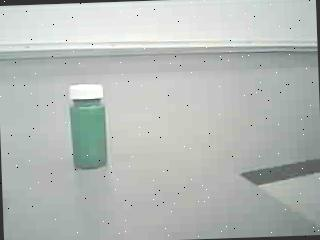Bottle C: (59, 76, 121, 176)
